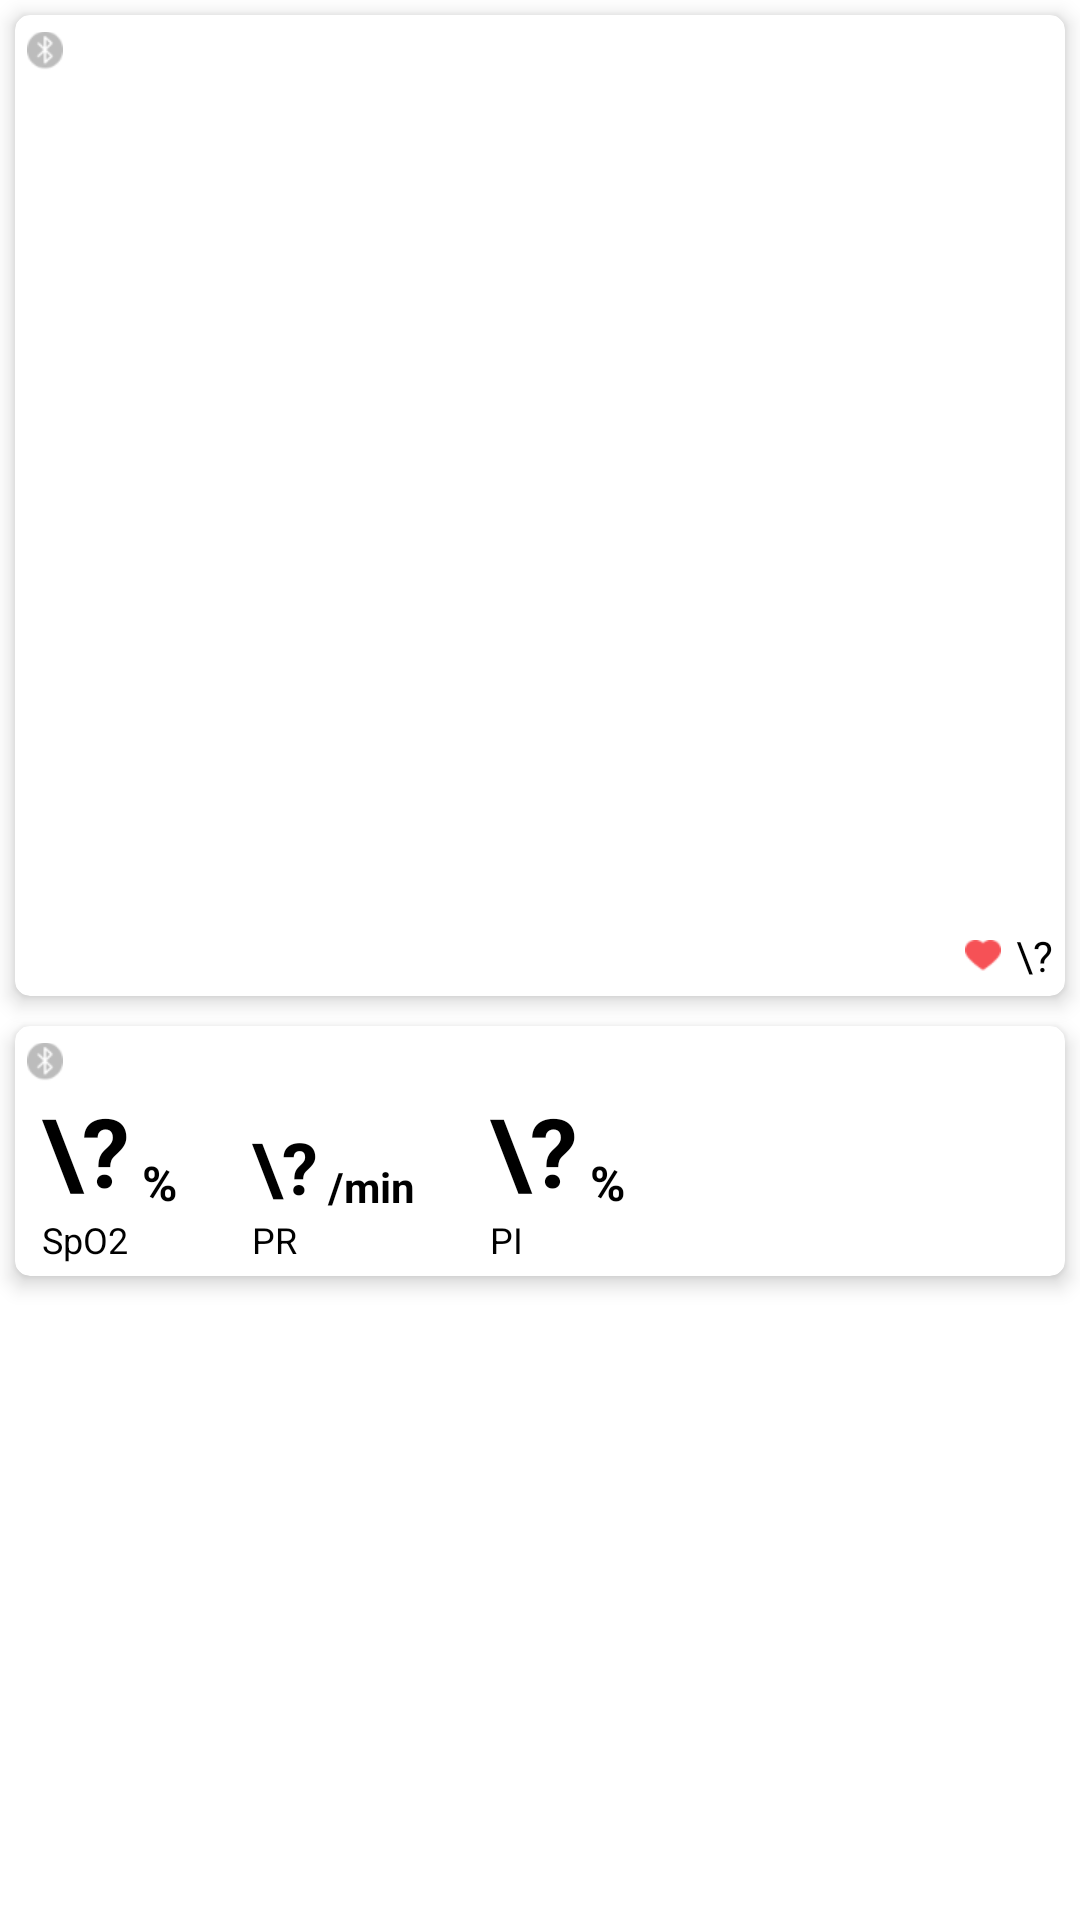

Where to tap for icons on this 1080 × 1920 app screen, as (x,y):
heart: (983,955)
